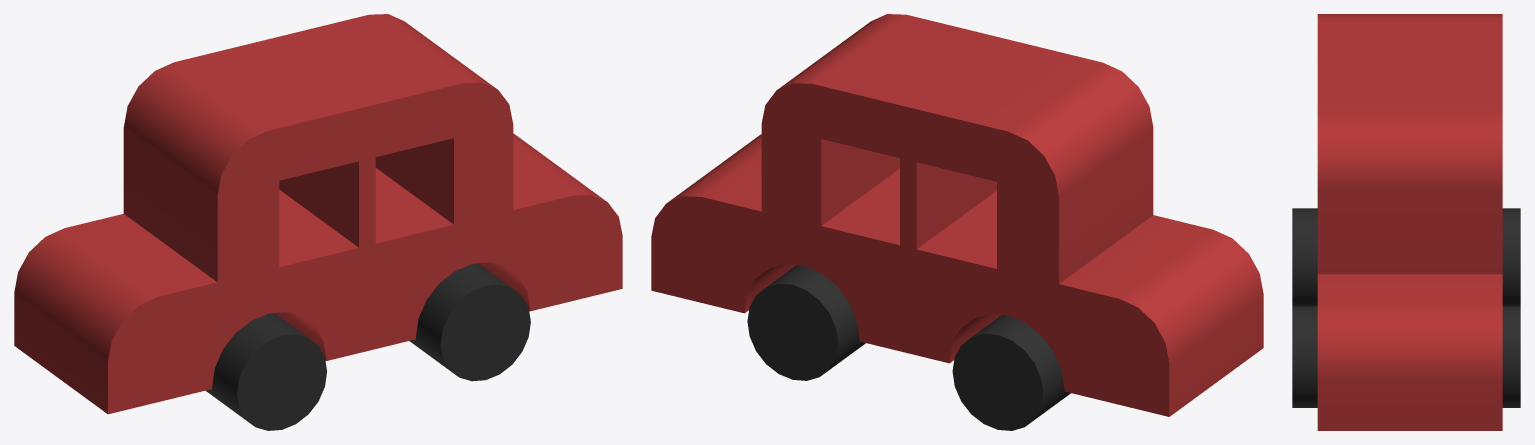
Rendered from car.fbx.
3 renders of one model, left to right at view 1: azimuth 30°, elevation 25°; view 2: azimuth 150°, elevation 25°; view 3: azimuth 270°, elevation 25°, orthographic. The views are drawn at different scales.
Parts seen in each view (by area): view 1: car1; view 2: car1; view 3: car1.
Boxes of the visible parts, box(x1,y1,x2,y2) form: car1: box(14, 14, 622, 430); car1: box(651, 14, 1263, 430); car1: box(1292, 14, 1520, 430).
Size of the model in its own units: 11.41 by 6.14 by 4.44.
